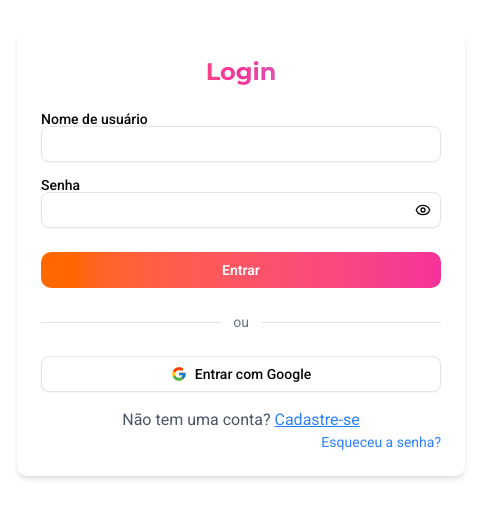
Test case: Login Component › Deve exibir erro quando credenciais são inválidas
Type "usuarioErrado" into the field labelled "Nome de usuário" at (241, 144), box [41,126,441,162]
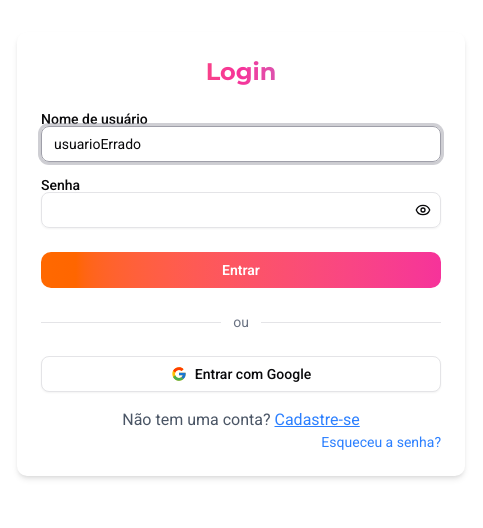
Type "senhaErrada" into the password field labelled "Senha" at (241, 210), box [41,192,441,228]
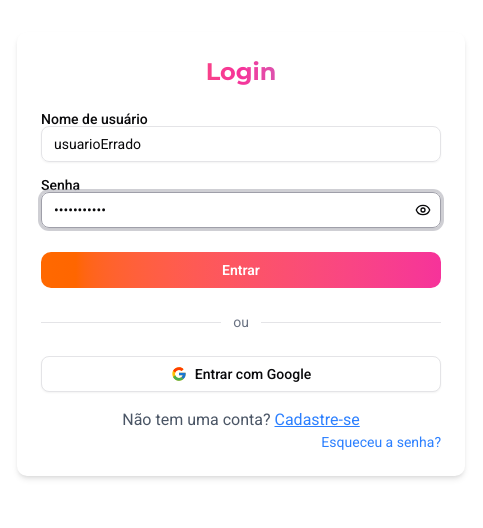
Click the button "Entrar" at (241, 270), box [41,252,441,288]
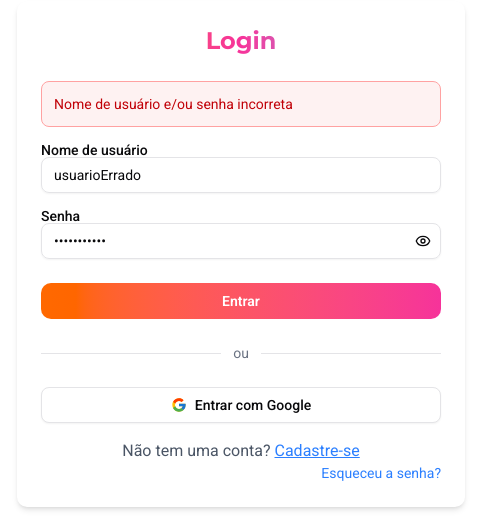
Expected: the text "Nome de usuário e/ou senha incorreta" is shown, [41,81,441,127]
